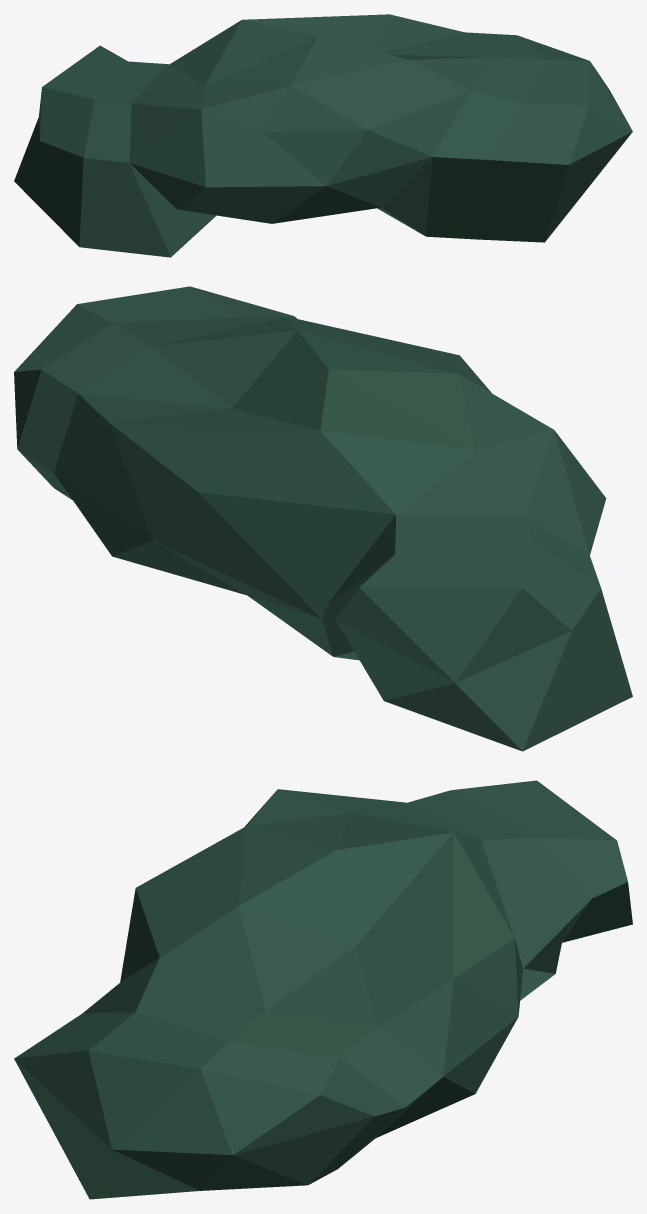
3 views of the same model, one above another, from view 1: azimuth 30°, elevation 25°; view 2: azimuth 150°, elevation 25°; view 3: azimuth 270°, elevation 25° (orthographic). The views are drawn at different scales.
Visible parts, largest first — view 1: Icosphere.001; view 2: Icosphere.001; view 3: Icosphere.001.
Boxes of the visible parts, x1,y1,x2,y2 form: Icosphere.001: (14, 14, 632, 257); Icosphere.001: (14, 286, 632, 751); Icosphere.001: (14, 780, 632, 1199).
Size of the model in its own units: 2.49 by 0.8725 by 1.94.
